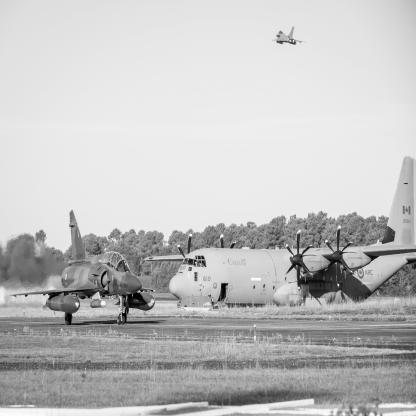C130: (145, 157, 416, 311)
Mirage2000: (10, 211, 156, 326)
Rafale: (272, 26, 307, 46)
